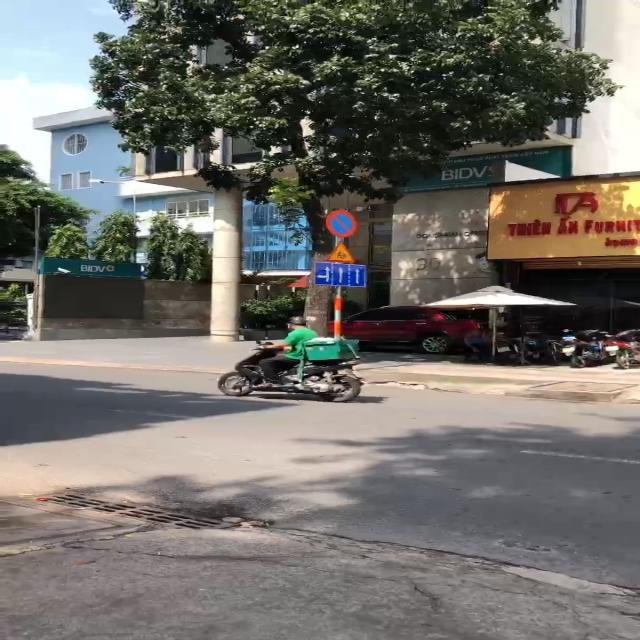Bien bao cam do xe: (324, 209, 362, 239)
Bien bao tre em: (320, 240, 356, 264)
